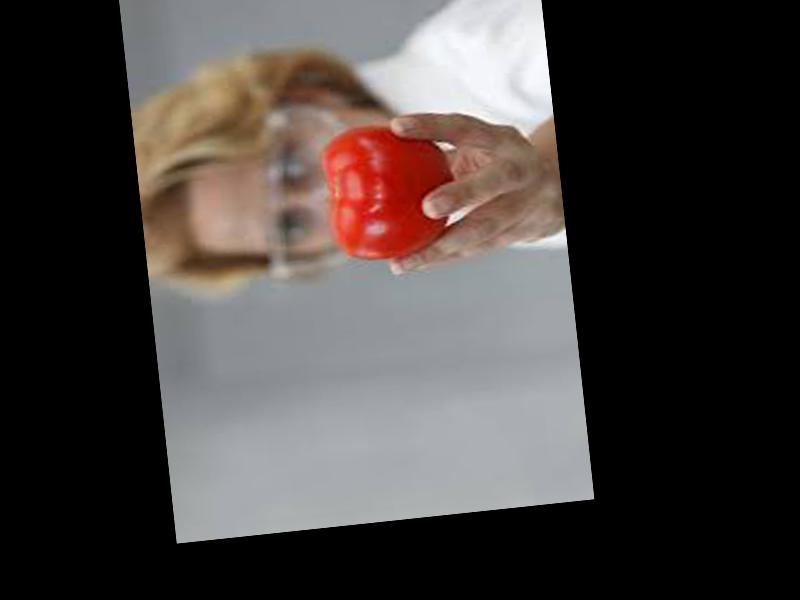Tomato: (321, 115, 457, 263)
